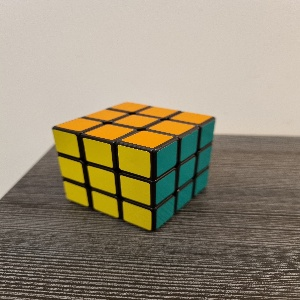cube: (51, 101, 216, 232)
